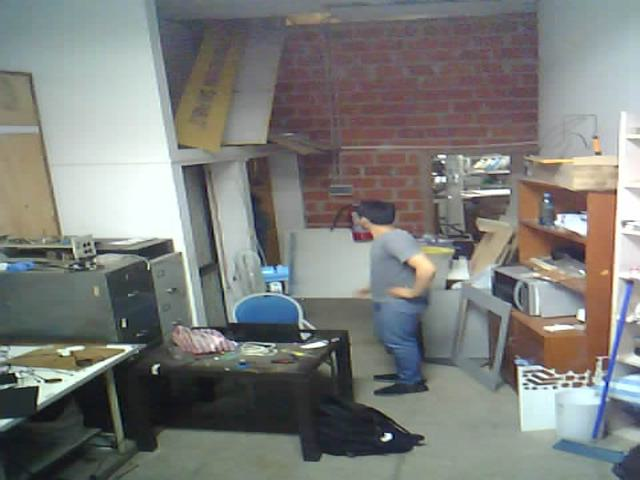person: (344, 191, 444, 409), (233, 173, 281, 294)
